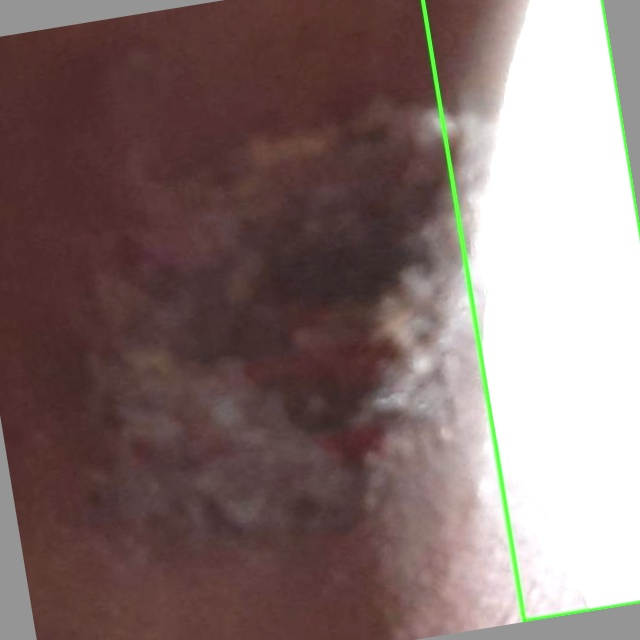Eczema: (423, 0, 639, 621)
